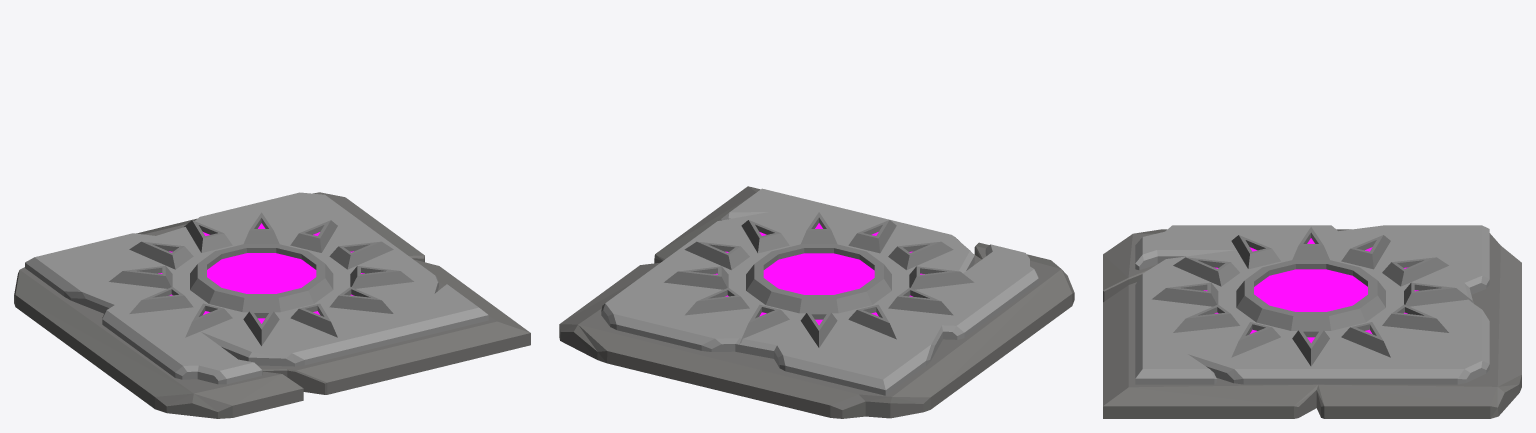
The model's file is plate_10.fbx.
3 views of the same model, side by side, from view 1: azimuth 30°, elevation 25°; view 2: azimuth 150°, elevation 25°; view 3: azimuth 270°, elevation 25° (orthographic). The views are drawn at different scales.
Visible parts, largest first — view 1: plate_10, plate_base_10, Цилиндр.004; view 2: plate_10, plate_base_10, Цилиндр.004; view 3: plate_10, plate_base_10, Цилиндр.004.
Part boxes in pixels (bbox=[...]): plate_10: bbox=[25, 192, 488, 384]; plate_base_10: bbox=[14, 192, 530, 418]; Цилиндр.004: bbox=[109, 212, 413, 345]; plate_10: bbox=[601, 188, 1038, 395]; plate_base_10: bbox=[559, 186, 1074, 418]; Цилиндр.004: bbox=[664, 212, 974, 347]; plate_10: bbox=[1135, 225, 1489, 384]; plate_base_10: bbox=[1103, 229, 1521, 418]; Цилиндр.004: bbox=[1152, 227, 1473, 366].
Bounding box in the file's own units: 1.3 × 1.05 × 1.3.
